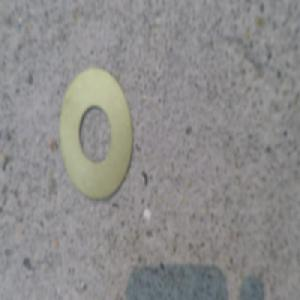Washer: (60, 69, 136, 206)
